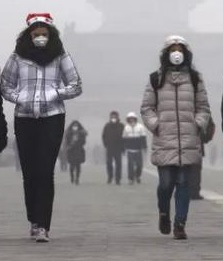person: (3, 11, 85, 243), (140, 34, 217, 240), (119, 111, 151, 185), (101, 109, 127, 185), (62, 119, 89, 187), (11, 136, 24, 174), (91, 144, 108, 166), (57, 148, 70, 172), (209, 144, 219, 167)
